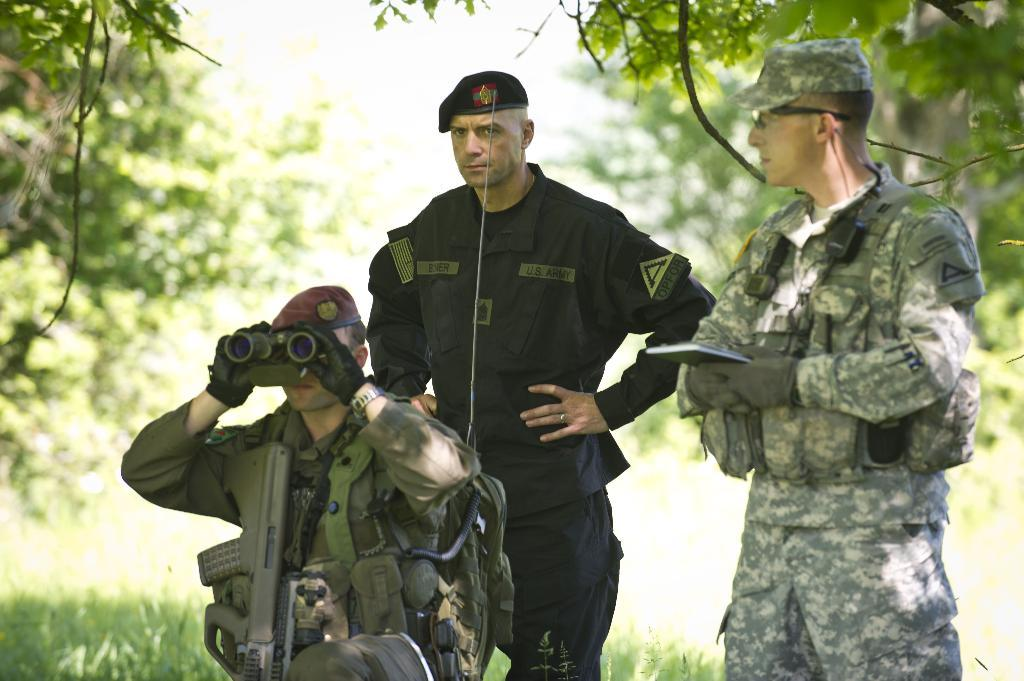non-violence: (365, 74, 720, 681), (669, 37, 969, 681), (119, 291, 504, 681)
weapon: (193, 448, 292, 680)
